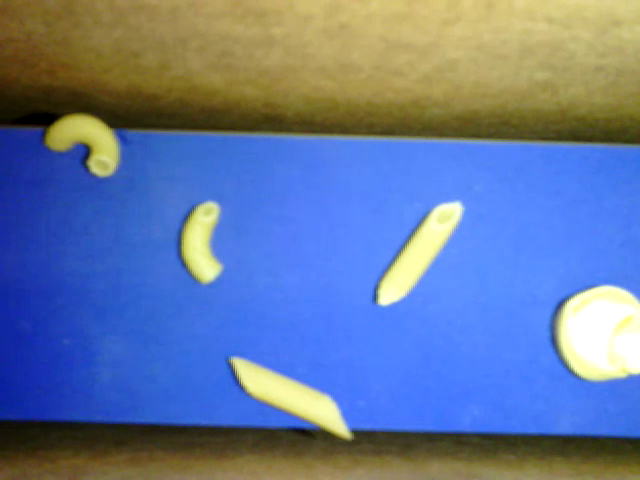elbow: (44, 112, 120, 176), (179, 200, 223, 285)
penne: (229, 354, 353, 438), (374, 200, 465, 307)
tortellini: (553, 285, 639, 381)
